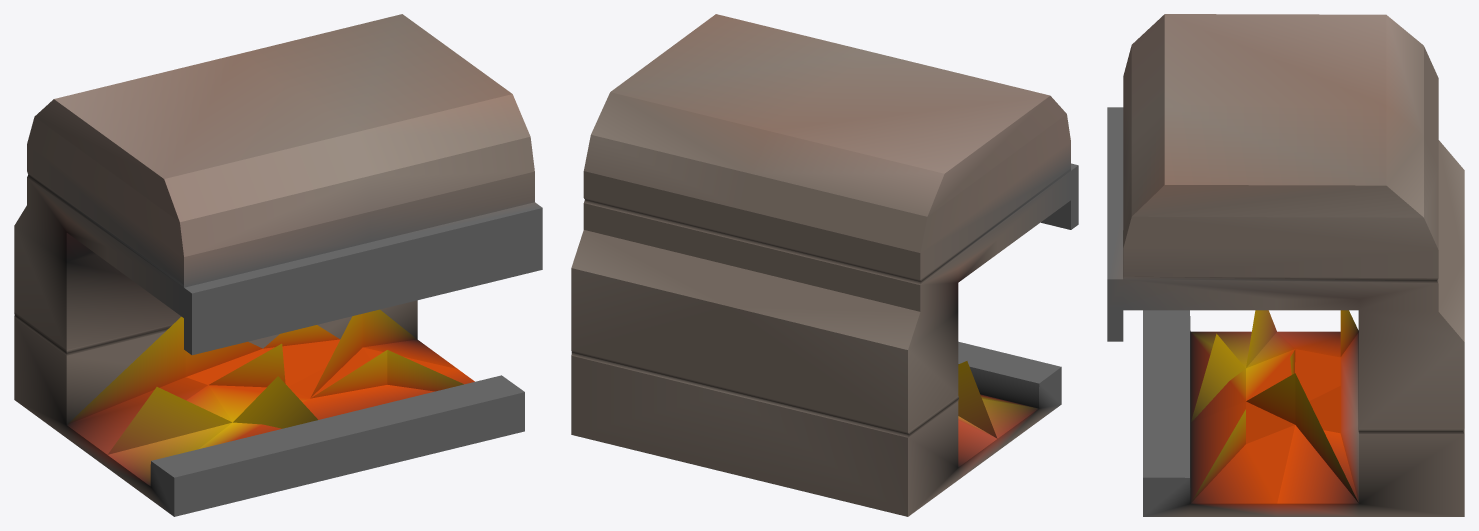
The model's file is FurnaceBaseLit.fbx.
3 views of the same model, side by side, from view 1: azimuth 30°, elevation 25°; view 2: azimuth 150°, elevation 25°; view 3: azimuth 270°, elevation 25° (orthographic). The views are drawn at different scales.
Parts seen in each view (by area): view 1: FurnaceLit; view 2: FurnaceLit; view 3: FurnaceLit.
Part boxes in pixels (x1,y1,x2,y2): FurnaceLit: (14,14,542,516); FurnaceLit: (571,14,1078,516); FurnaceLit: (1107,14,1464,516).
Bounding box in the file's own units: 99.97 × 89.62 × 87.58.
